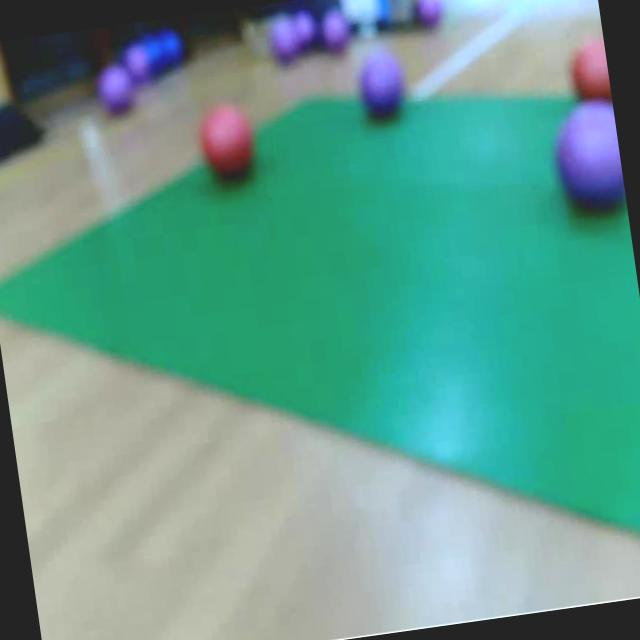blue_ball: (144, 32, 167, 78), (160, 27, 184, 70)
purple_ball: (552, 103, 628, 217), (352, 45, 412, 126), (90, 64, 140, 117), (266, 17, 301, 68), (319, 10, 352, 54), (124, 45, 154, 86), (411, 0, 447, 31), (293, 15, 319, 52)
red_ball: (198, 104, 262, 184), (567, 38, 612, 104)
